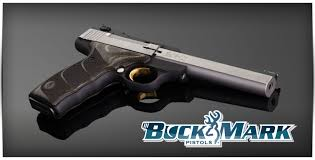gun: (28, 24, 282, 119)
